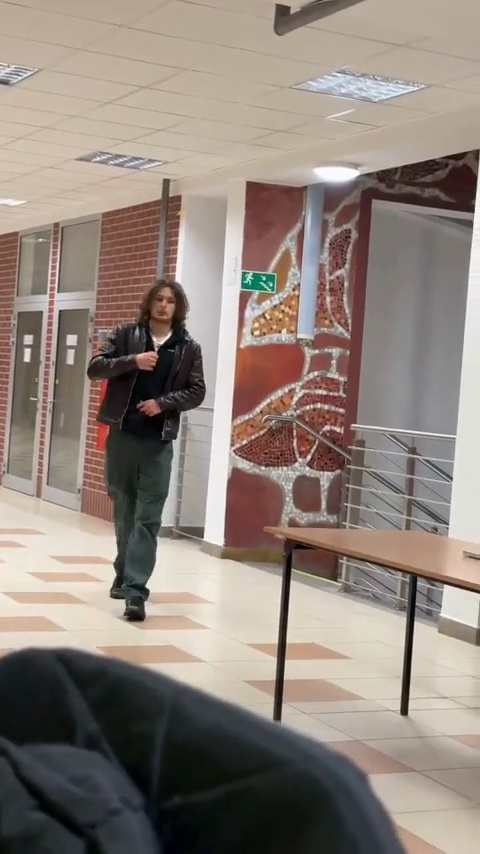no vest: (89, 280, 207, 623)
